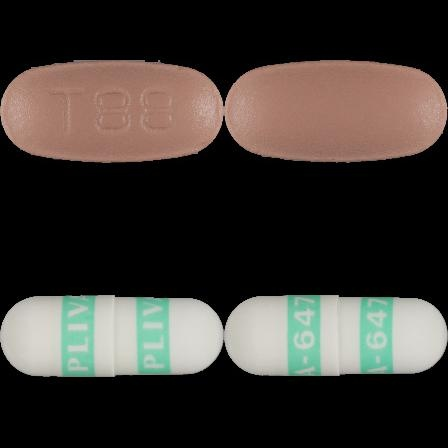16590-092: (0, 0, 224, 224)
